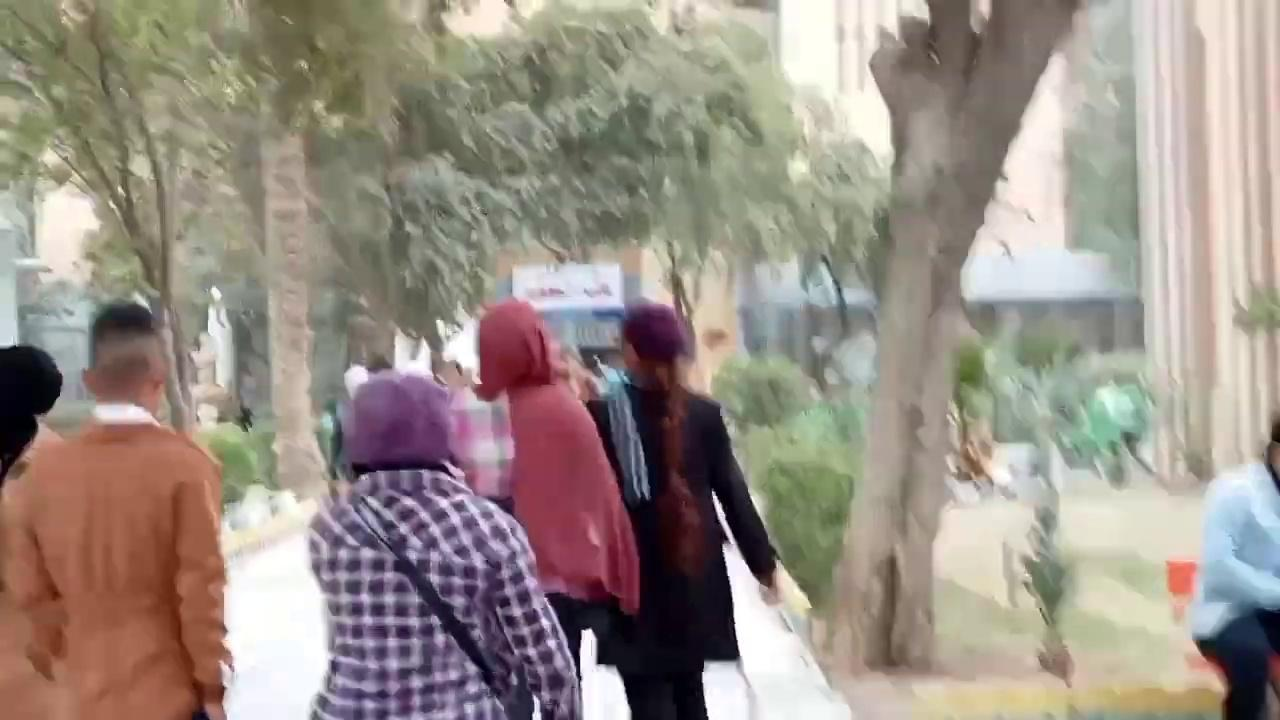car: (321, 364, 515, 512)
person: (303, 366, 582, 719), (0, 301, 233, 719), (582, 298, 780, 718), (469, 298, 642, 701), (1190, 411, 1279, 718)
tree: (2, 0, 889, 504), (382, 0, 888, 366), (827, 0, 1084, 675), (192, 0, 436, 502), (0, 0, 253, 437), (708, 347, 867, 663)
